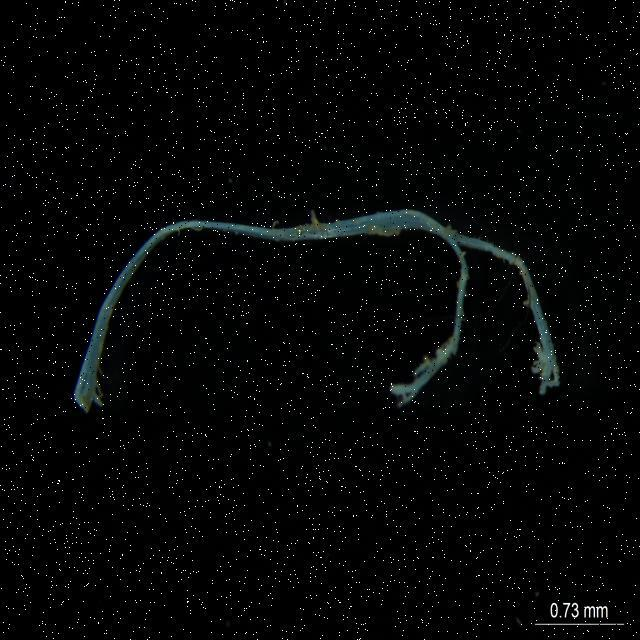fiber: (57, 206, 566, 420)
